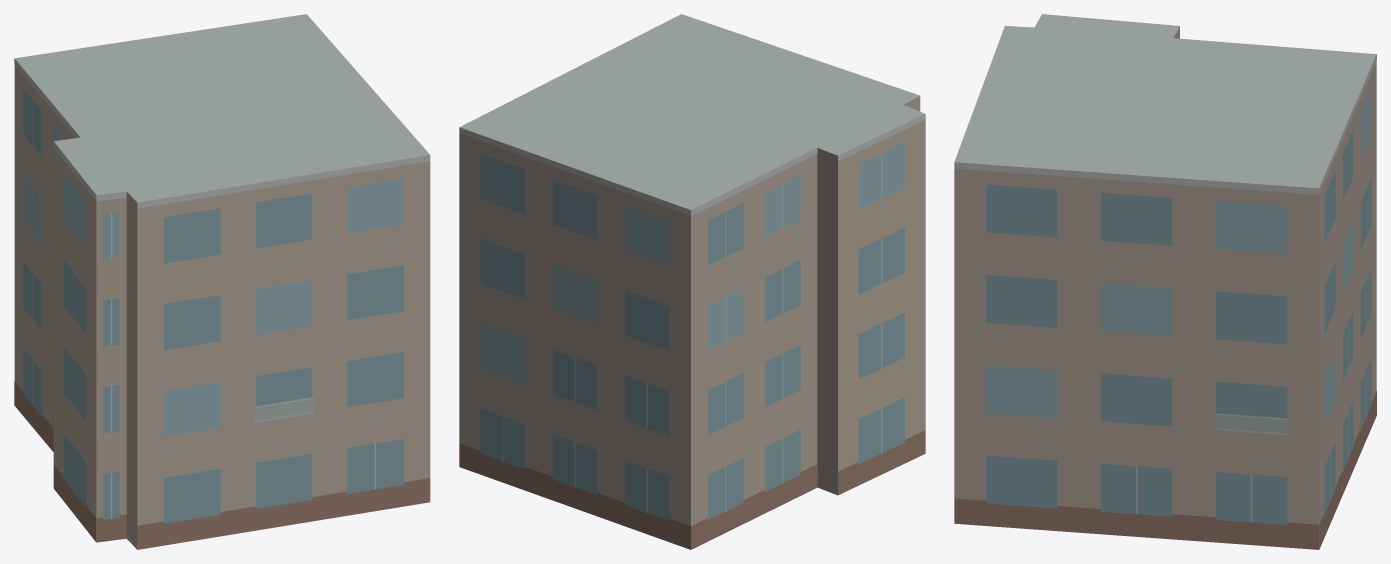
Rendered from survey-upis-32690092.glb.
3 renders of one model, left to right at view 1: azimuth 30°, elevation 25°; view 2: azimuth 150°, elevation 25°; view 3: azimuth 270°, elevation 25°, orthographic. The views are drawn at different scales.
Parts seen in each view (by area): view 1: survey-upis-32690092.tmp; view 2: survey-upis-32690092.tmp; view 3: survey-upis-32690092.tmp.
Part boxes in pixels (bbox=[...]): survey-upis-32690092.tmp: bbox=[14, 14, 430, 549]; survey-upis-32690092.tmp: bbox=[459, 14, 925, 549]; survey-upis-32690092.tmp: bbox=[954, 14, 1376, 549].
Size of the model in its own units: 14.09 by 13.6 by 14.42.
